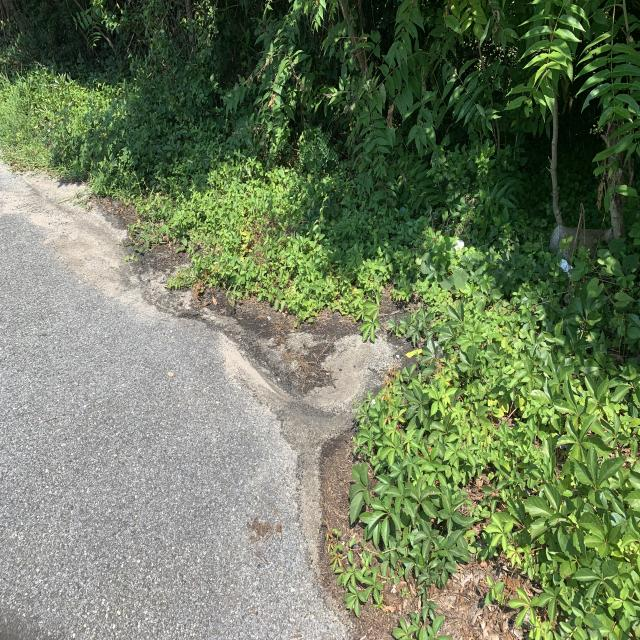Paper: (559, 258, 574, 284)
Trash -everything else-: (450, 237, 466, 256)
